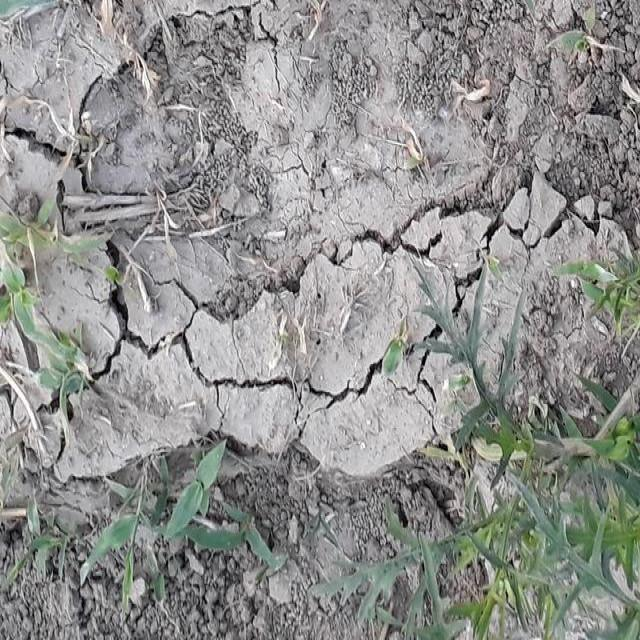weed: (419, 380, 640, 640), (59, 458, 275, 586)
